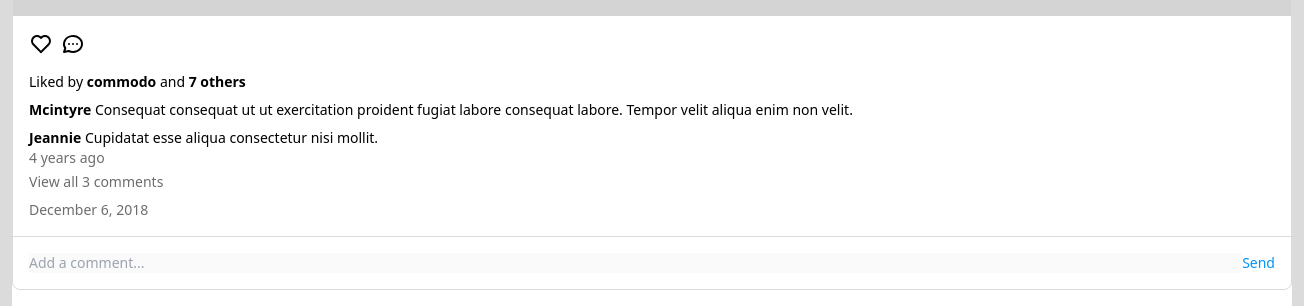
<Post/> › should change icon when liked button is clicked
(page scrolled)
Step 1. Click the button with test id "like-button" → (41, 44), box x1=29 y1=32 x2=53 y2=56
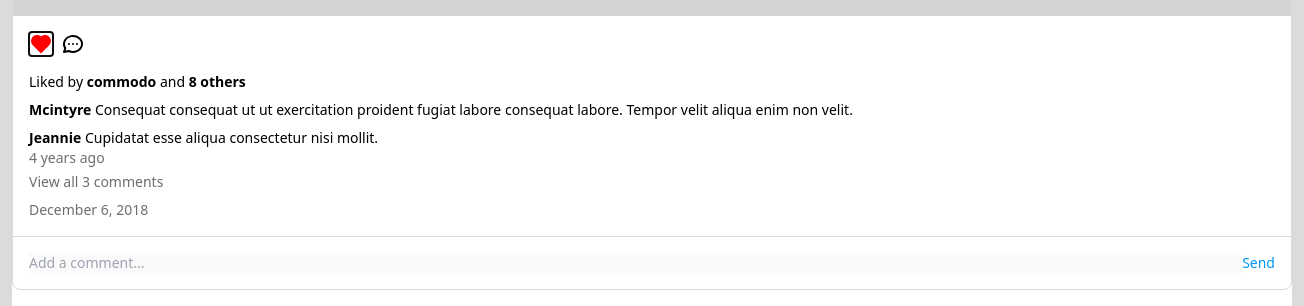
Result: the icon with test id "liked" is shown at x1=29 y1=32 x2=53 y2=56
